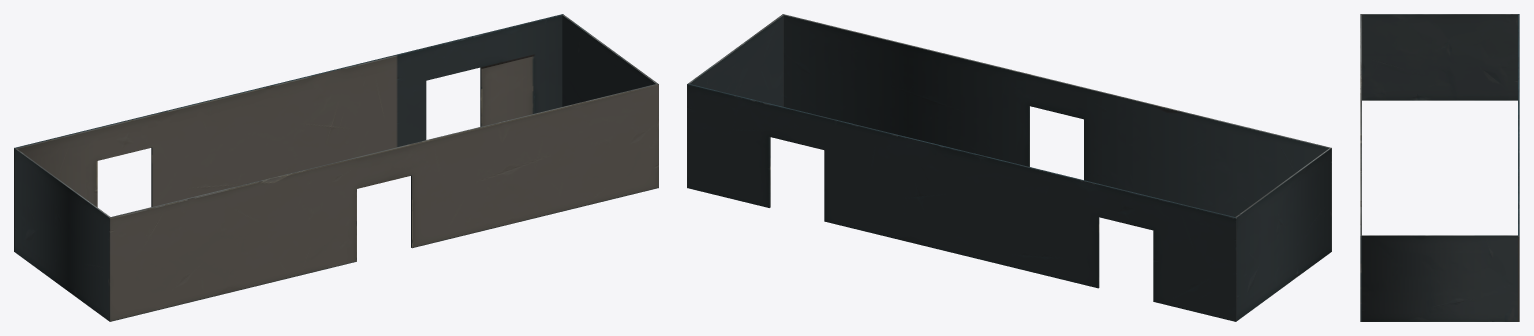
File: FrontWallHouseLOW222.fbx
3 views of the same model, side by side, from view 1: azimuth 30°, elevation 25°; view 2: azimuth 150°, elevation 25°; view 3: azimuth 270°, elevation 25° (orthographic). The views are drawn at different scales.
Parts seen in each view (by area): view 1: House_wall_LOW; view 2: House_wall_LOW; view 3: House_wall_LOW.
Part boxes in pixels (x1,y1,x2,y2): House_wall_LOW: (14, 14, 658, 321); House_wall_LOW: (687, 14, 1331, 321); House_wall_LOW: (1360, 14, 1519, 321).
Size of the model in its own units: 2000 by 361 by 606.
